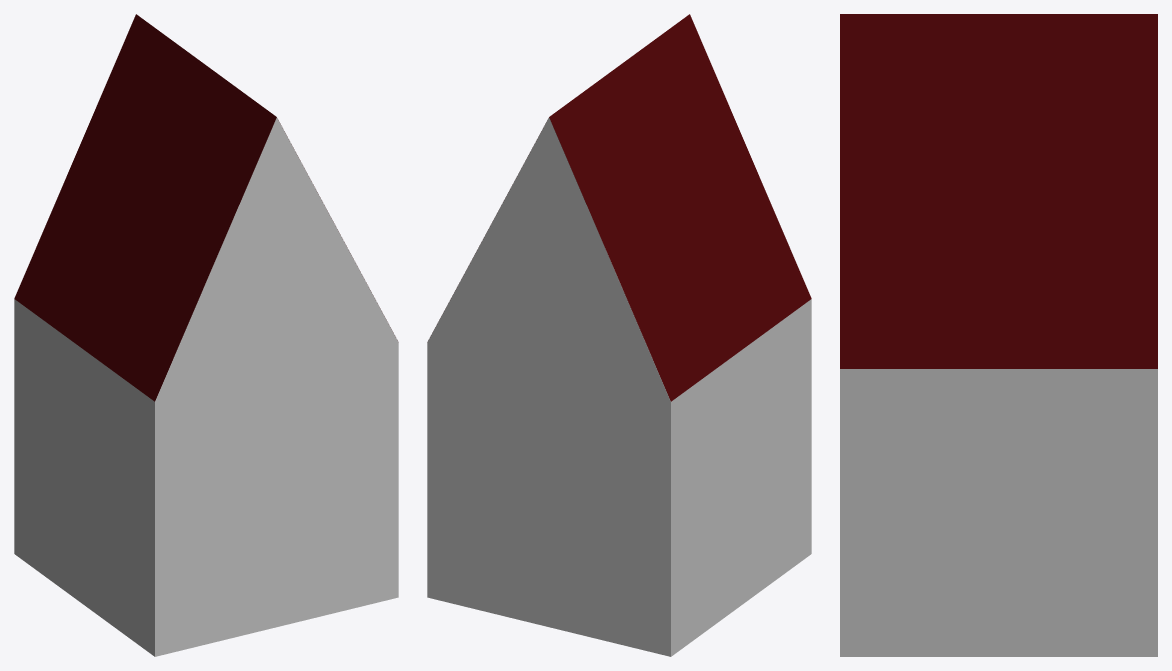
File: haus.glb
3 renders of one model, left to right at view 1: azimuth 30°, elevation 25°; view 2: azimuth 150°, elevation 25°; view 3: azimuth 270°, elevation 25°, orthographic. The views are drawn at different scales.
Visible parts, largest first — view 1: House Base, Roof, Gable; view 2: House Base, Roof, Gable; view 3: Roof, House Base.
Part boxes in pixels (x1,y1,x2,y2): House Base: [14, 255, 398, 656]; Roof: [14, 14, 397, 401]; Gable: [155, 117, 398, 401]; House Base: [427, 255, 811, 656]; Roof: [428, 14, 811, 401]; Gable: [427, 117, 670, 401]; Roof: [840, 14, 1157, 368]; House Base: [840, 369, 1157, 656].
Size of the model in its own units: 1 by 2 by 1.
